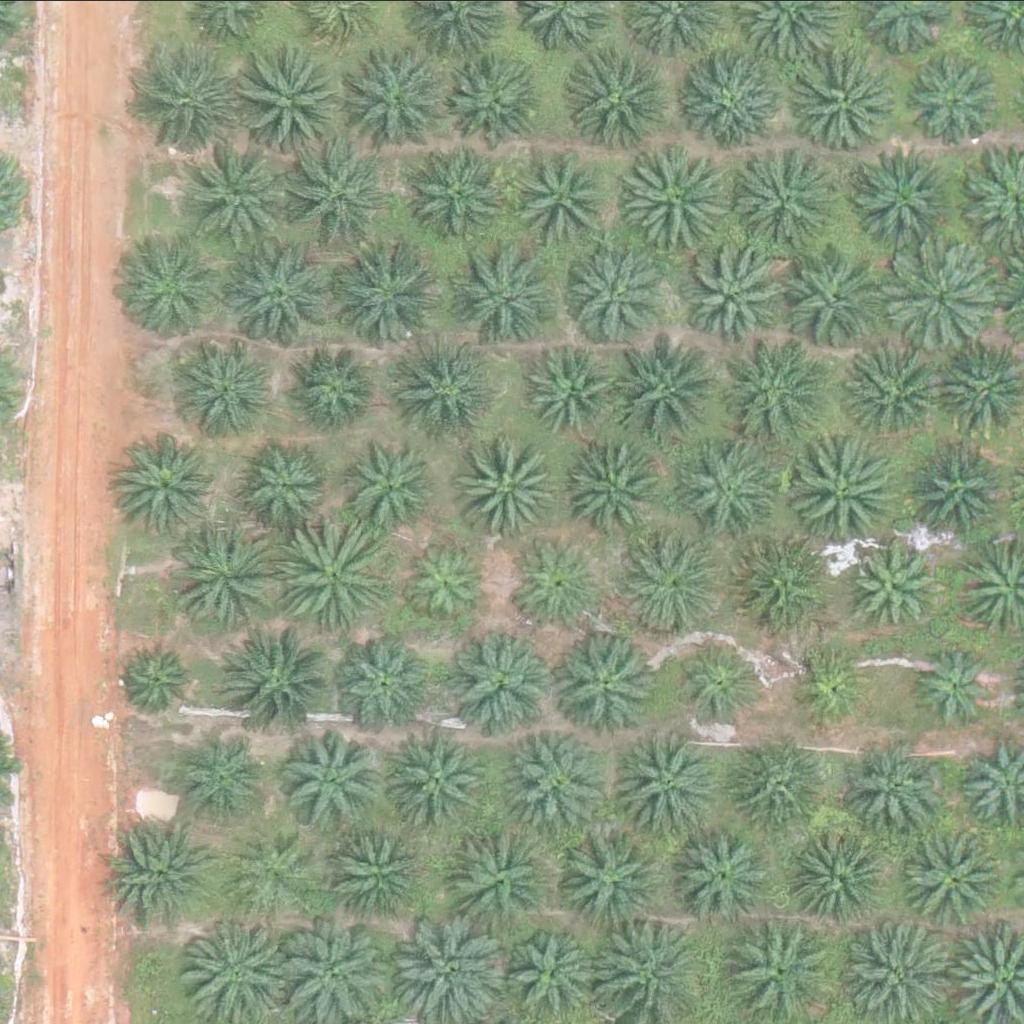Kelapa_Sawit: (229, 623, 343, 736), (328, 241, 442, 354), (444, 819, 557, 932), (107, 815, 220, 928), (178, 513, 291, 626), (785, 441, 898, 554), (223, 242, 336, 355), (623, 142, 736, 255), (178, 140, 291, 253), (234, 46, 347, 159), (281, 514, 395, 626), (440, 235, 554, 347), (554, 820, 667, 932), (497, 722, 610, 834), (612, 726, 725, 838), (612, 522, 725, 634), (612, 333, 725, 445), (114, 229, 227, 341), (884, 242, 997, 354), (727, 141, 840, 253), (282, 138, 395, 250), (141, 48, 254, 160), (788, 821, 889, 921), (671, 821, 772, 921), (326, 823, 427, 923), (391, 732, 492, 832), (735, 737, 836, 837), (844, 732, 945, 832), (555, 634, 656, 734), (731, 522, 832, 622), (121, 434, 222, 534), (466, 439, 567, 539), (678, 440, 779, 540), (907, 449, 1008, 549), (838, 346, 939, 446), (738, 336, 839, 436), (393, 340, 494, 440), (172, 336, 273, 436), (565, 242, 666, 342), (681, 245, 782, 345), (846, 147, 947, 247), (408, 145, 509, 245), (512, 146, 613, 246), (347, 49, 448, 149), (569, 52, 670, 152), (677, 46, 778, 146), (802, 47, 903, 147), (902, 825, 1002, 925), (284, 721, 384, 821), (332, 634, 432, 734), (453, 632, 553, 732), (564, 434, 664, 534), (788, 252, 888, 352), (447, 52, 547, 152), (181, 731, 269, 819), (783, 640, 871, 728), (670, 640, 758, 728), (851, 545, 939, 633), (403, 531, 491, 619), (232, 828, 321, 915), (915, 646, 1003, 733), (514, 537, 602, 624), (242, 443, 330, 530), (349, 439, 437, 526), (523, 348, 611, 435), (284, 345, 372, 432), (911, 57, 999, 144), (122, 641, 197, 716)
